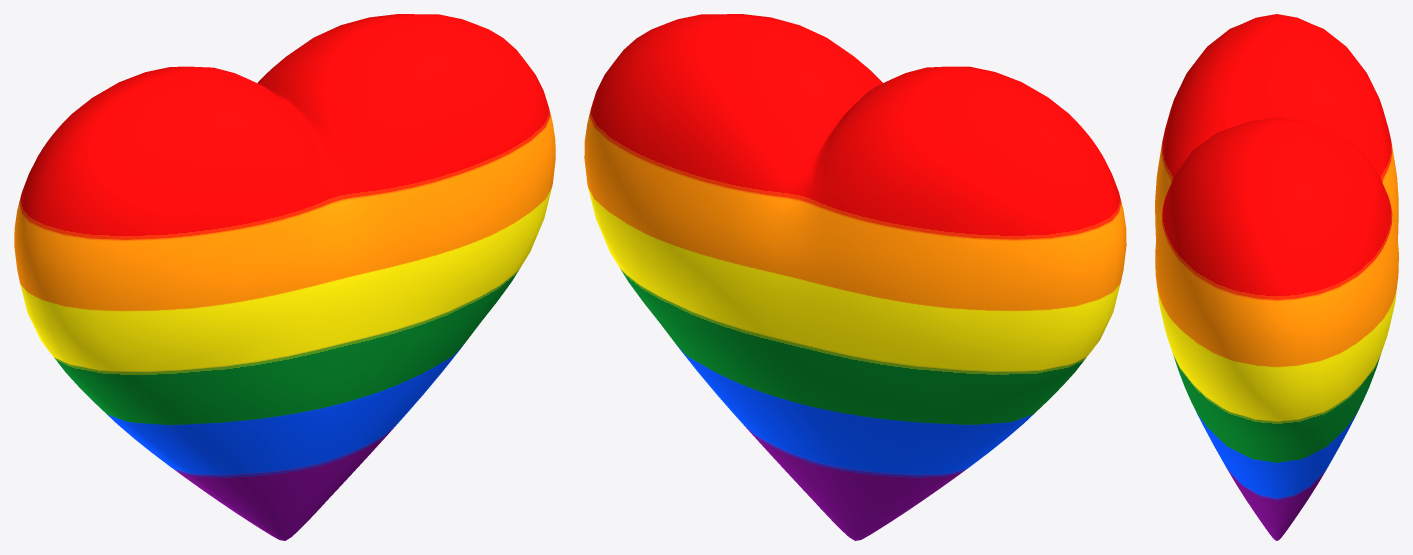
Rendered from corazon_icon.glb.
3 views of the same model, side by side, from view 1: azimuth 30°, elevation 25°; view 2: azimuth 150°, elevation 25°; view 3: azimuth 270°, elevation 25° (orthographic). The views are drawn at different scales.
Parts seen in each view (by area): view 1: pride_heart_01.3_3; view 2: pride_heart_01.3_3; view 3: pride_heart_01.3_3.
Part boxes in pixels (x1,y1,x2,y2): pride_heart_01.3_3: [14, 14, 555, 540]; pride_heart_01.3_3: [584, 14, 1126, 540]; pride_heart_01.3_3: [1155, 14, 1398, 540].
Size of the model in its own units: 0.00645 by 0.0058 by 0.0028.
1 material, 1 textured.
